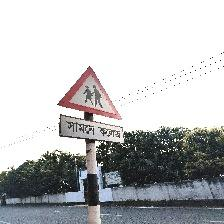College-in-front: (51, 54, 146, 157)
